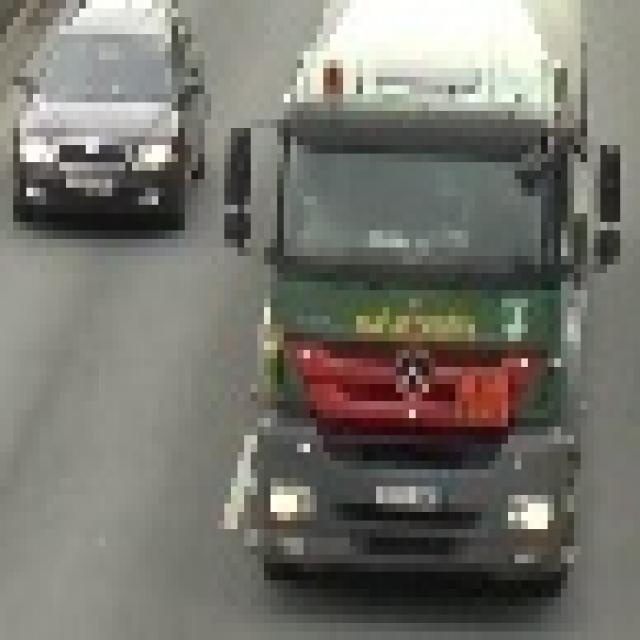Truck: (218, 0, 620, 589)
